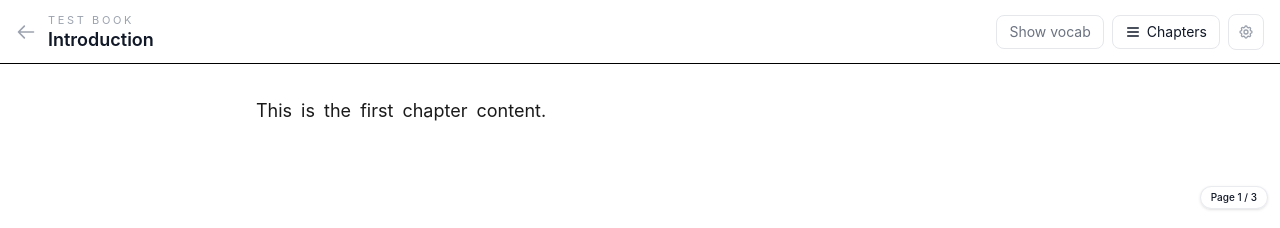
Test case: ReaderPage › renders chapter navigation with prev/next buttons
The image size is (1280, 228).
Click the button "Chapters".
click(1166, 32)  # box [1112, 14, 1220, 48]
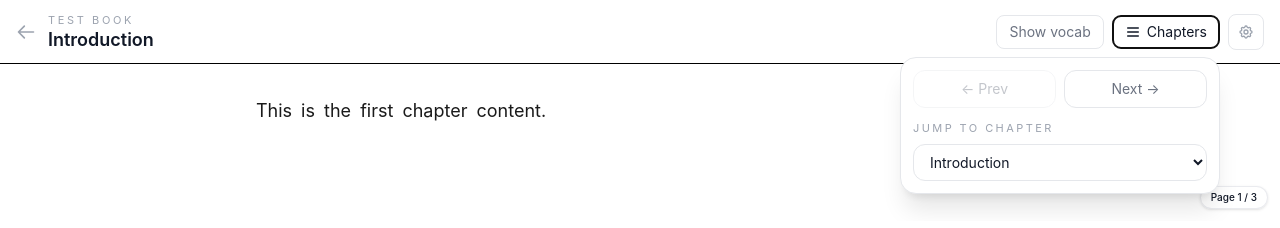
Expected: the button "← Prev" is shown, [913, 70, 1056, 108]
Expected: the button "Next →" is shown, [1064, 70, 1207, 108]
